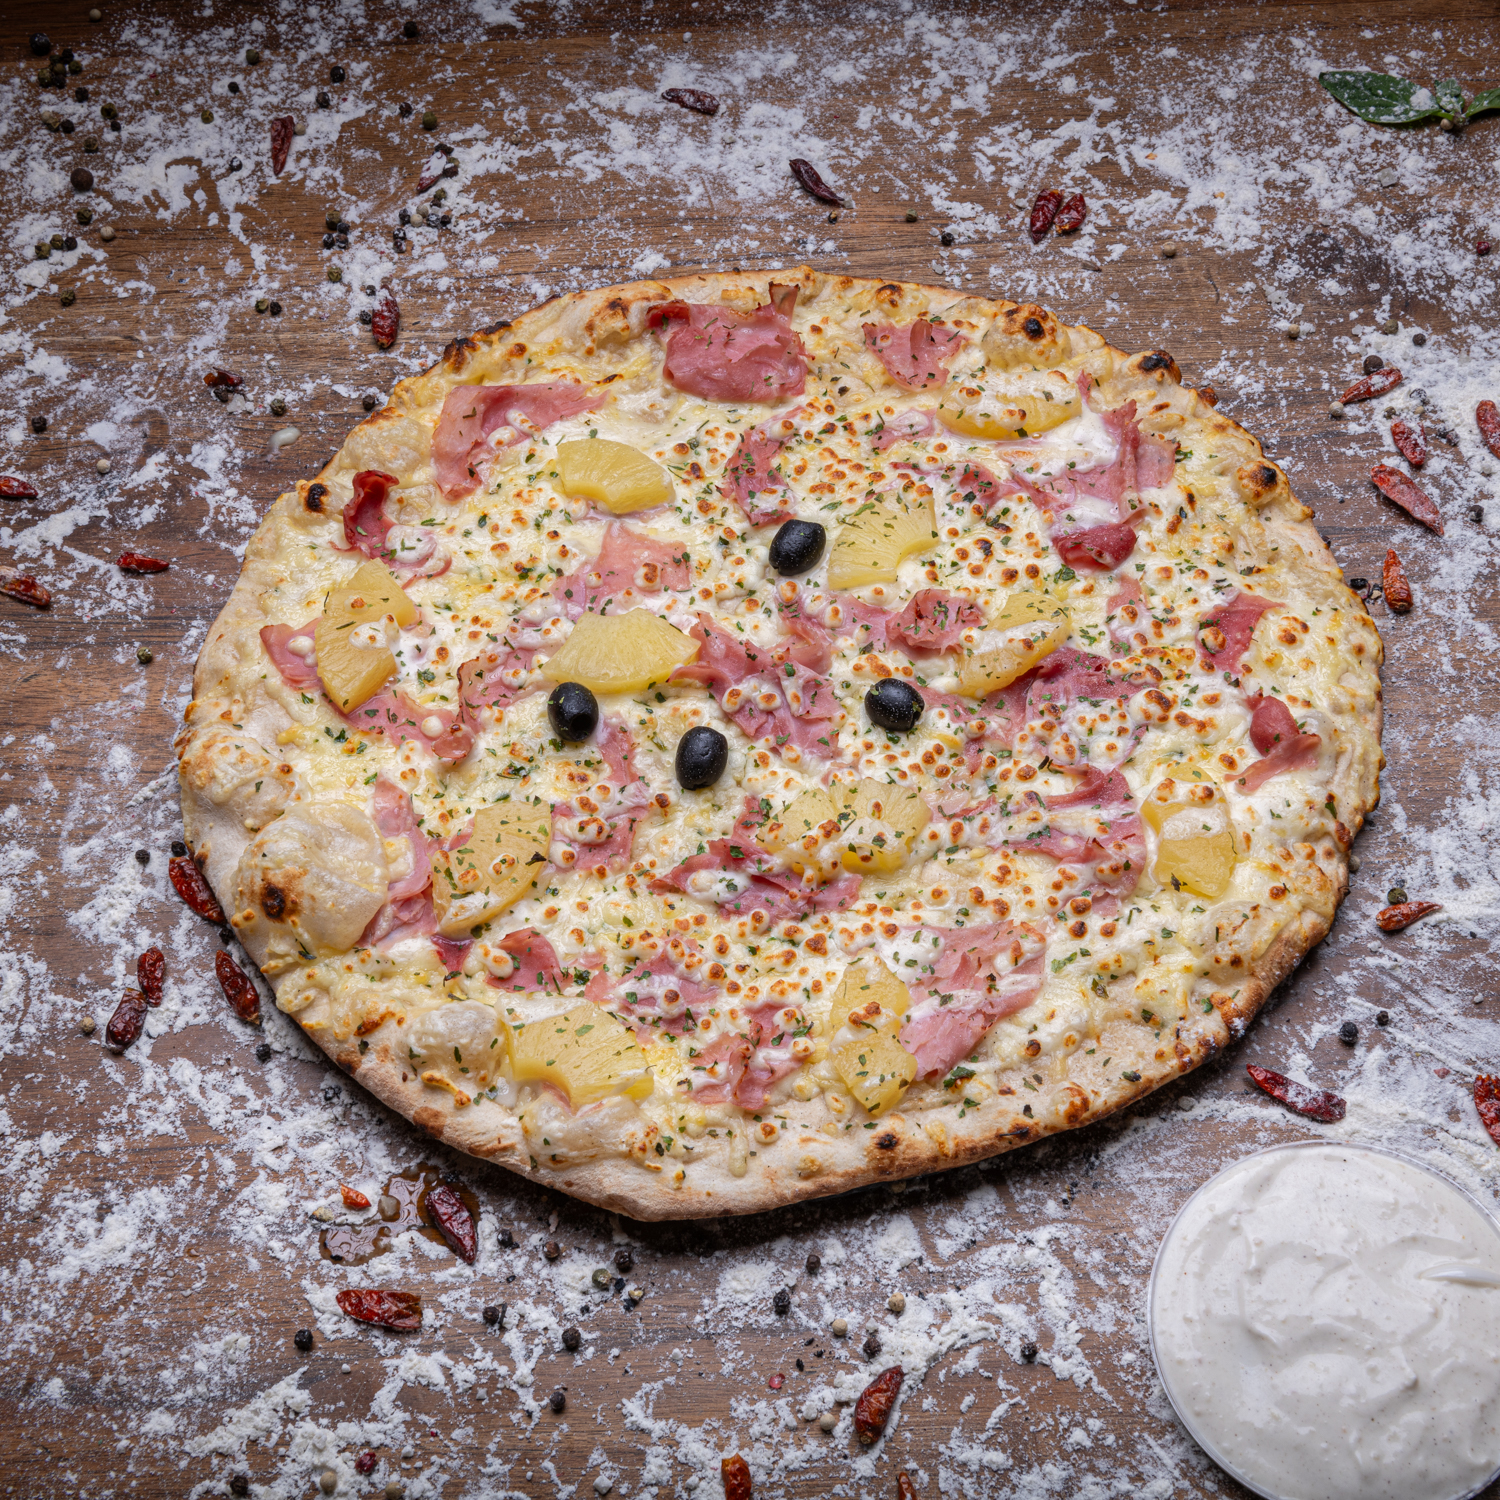Ham: (945, 419, 1180, 565), (255, 620, 470, 769), (663, 797, 864, 927), (1070, 581, 1280, 701), (975, 769, 1139, 911), (902, 916, 1044, 1078), (695, 592, 826, 758), (541, 712, 666, 875), (435, 380, 611, 495), (652, 297, 823, 408), (687, 984, 810, 1117), (481, 942, 720, 1011), (345, 783, 440, 956), (552, 525, 706, 598), (848, 313, 975, 397), (728, 411, 815, 530), (837, 589, 978, 661), (451, 614, 536, 706), (1239, 692, 1308, 794)
Olives: (674, 720, 734, 794), (769, 514, 823, 578), (544, 687, 600, 747), (870, 674, 922, 731)
Pepperoni: (772, 783, 933, 870)
Pineapple: (503, 1000, 669, 1117), (430, 799, 555, 935), (826, 956, 919, 1120), (313, 565, 424, 698), (541, 600, 695, 687), (956, 578, 1060, 695), (1147, 755, 1228, 902), (826, 486, 933, 589), (549, 435, 674, 516), (933, 383, 1081, 442)
Pizza: (163, 269, 1380, 1212)
